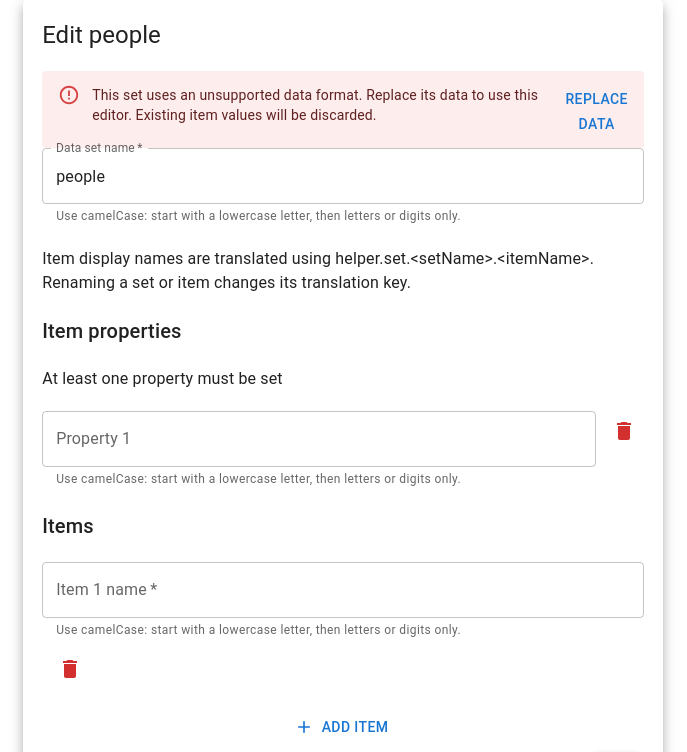
Test case: SetEditorScreen › requires explicit replacement of legacy data
This screenshot has width=687, height=752.
Check: the text "unsupported data format" is shown, box [92,87,538,123]
What coordinates should you click on to do the following:
click the button "Replace data"
I would click on:
 (597, 112)
Its box is [558,81,636,142].
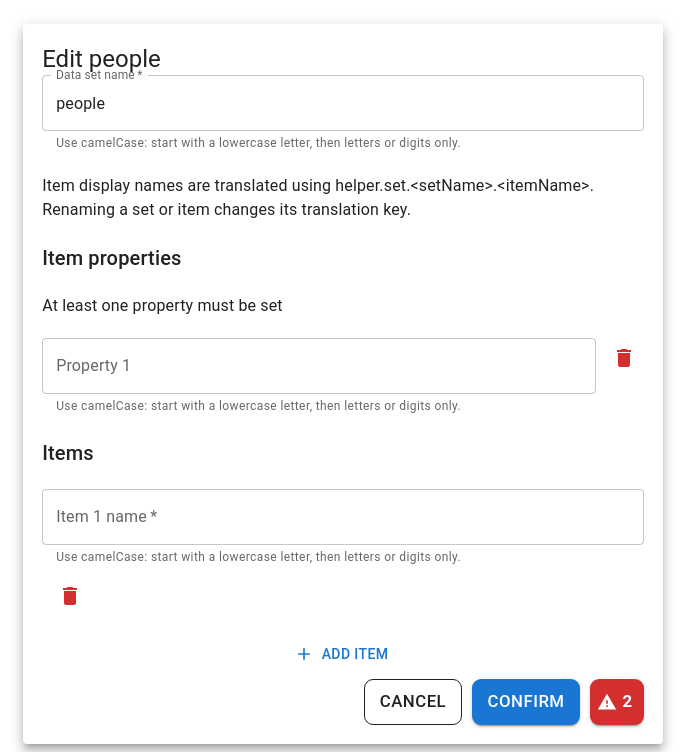
Check: the field labelled "Item 1 name *" is empty, box [42,489,644,545]
Check: the button "Confirm" is enabled, box [472,679,580,725]
